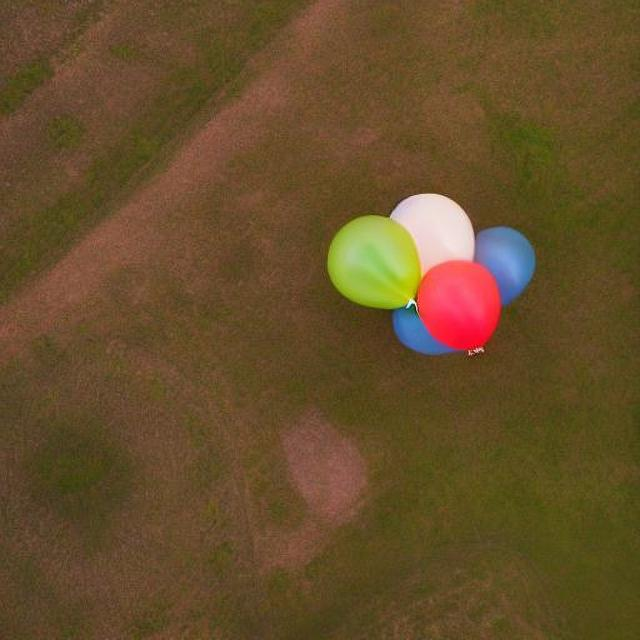balloon: (319, 183, 551, 369)
